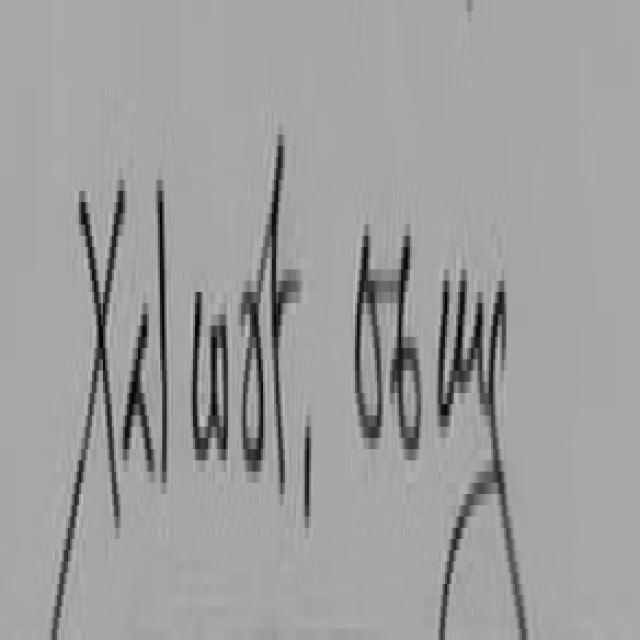0: (357, 241, 381, 438)
6: (392, 241, 421, 449)
X: (52, 191, 125, 640)
a: (126, 314, 153, 466)
c: (193, 298, 210, 460)
g: (443, 286, 527, 640)
l: (159, 180, 167, 483)
m: (443, 269, 487, 427)
o: (213, 326, 228, 460)
r: (241, 292, 265, 472)
t: (272, 152, 300, 494)
